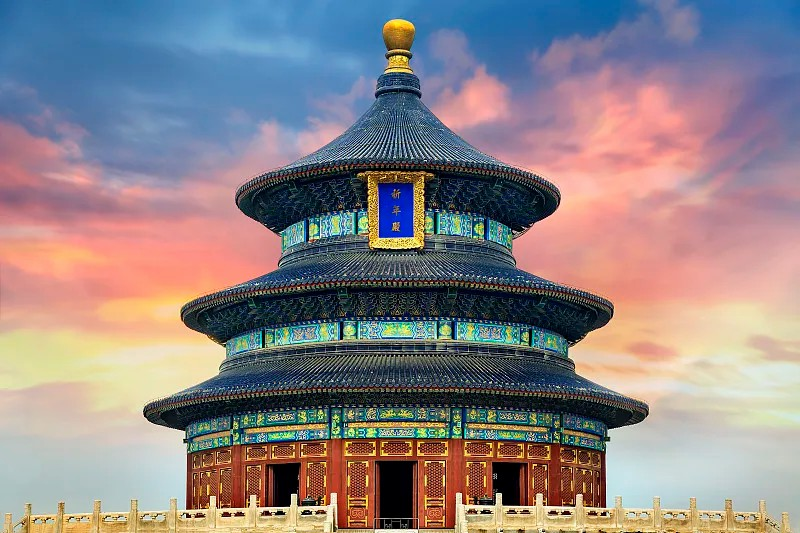Heaven: (144, 19, 651, 525)
